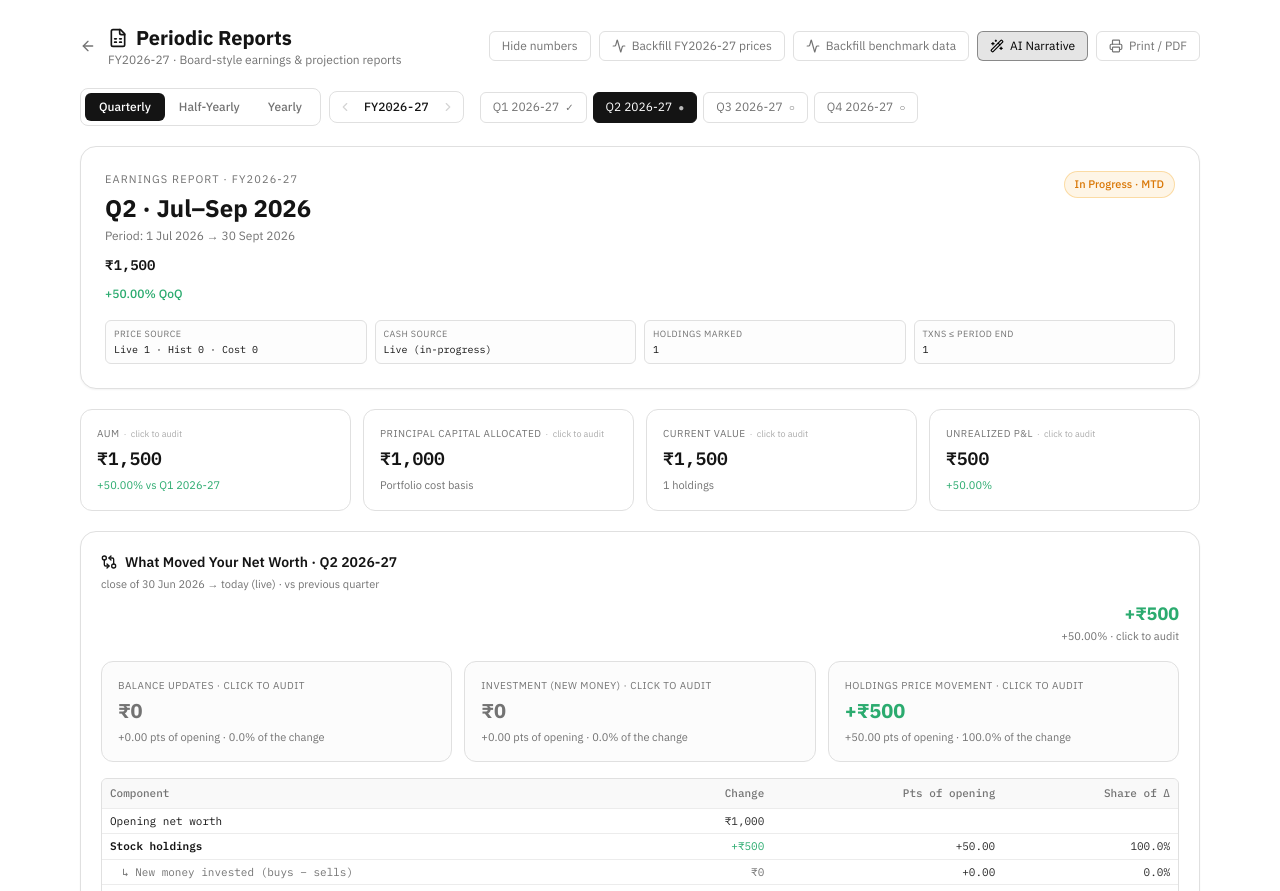
it: Reports page › does not show the staleness warning once a real historical close exists for the mark date
Click the button "Q1 2026-27✓".
click(533, 107)  # box left=480, top=92, right=587, bottom=122
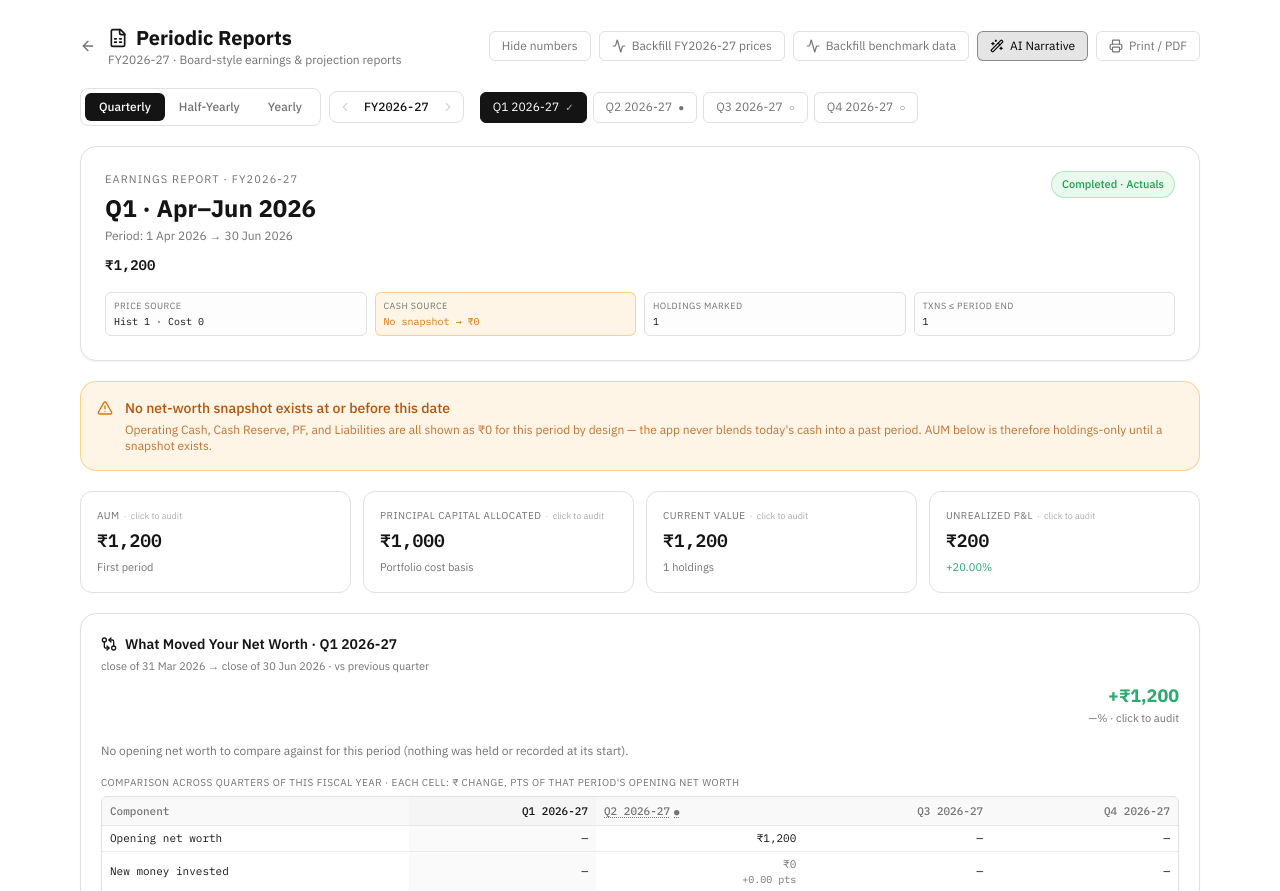
Result: the heading "Q1 · Apr–Jun 2026" is shown at left=105, top=192, right=316, bottom=224
